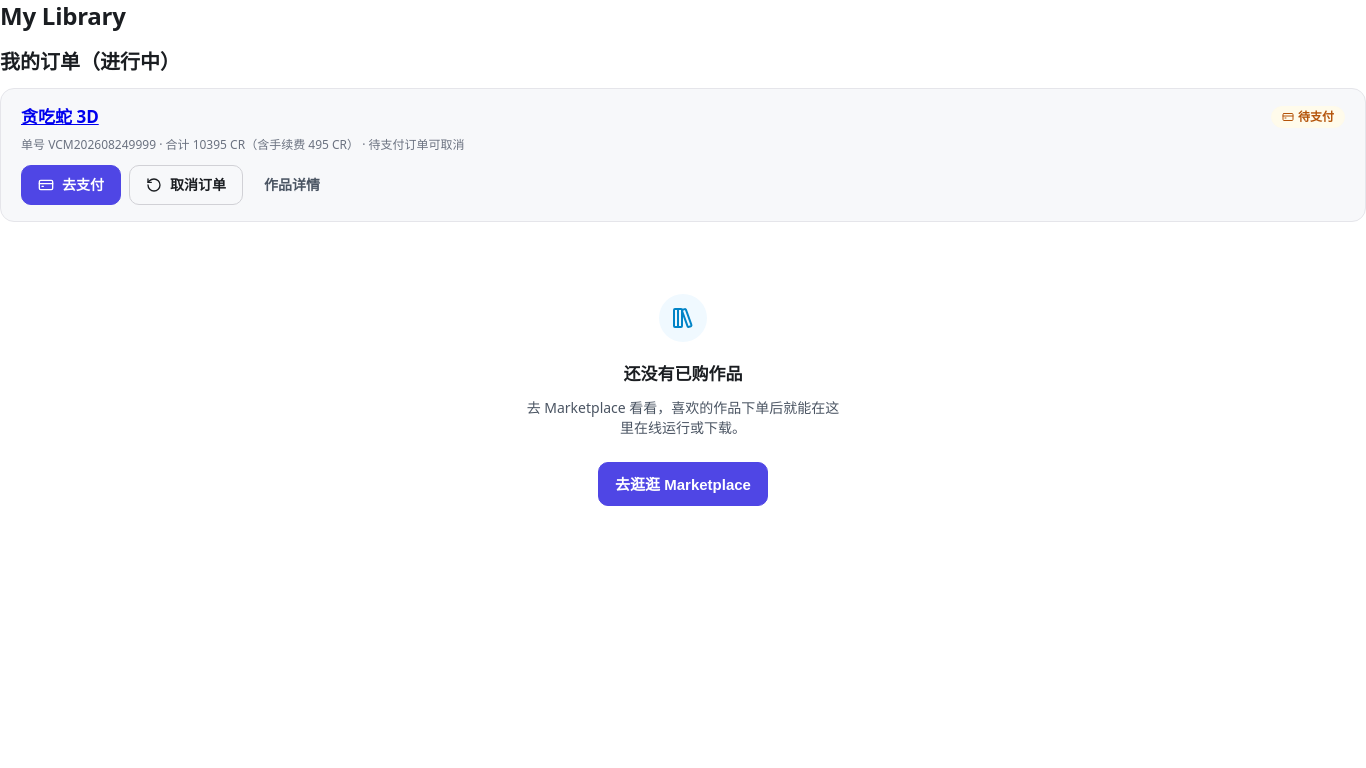
Test case: LibraryPage（区域 3 My Library） › 我的订单：去支付 → 二次确认弹窗（总价）→ POST pay
The image size is (1366, 768).
What coordinates should you click on to do the following:
click the button "去支付"
I would click on:
 (71, 185)
Its box is [21,165,121,205].
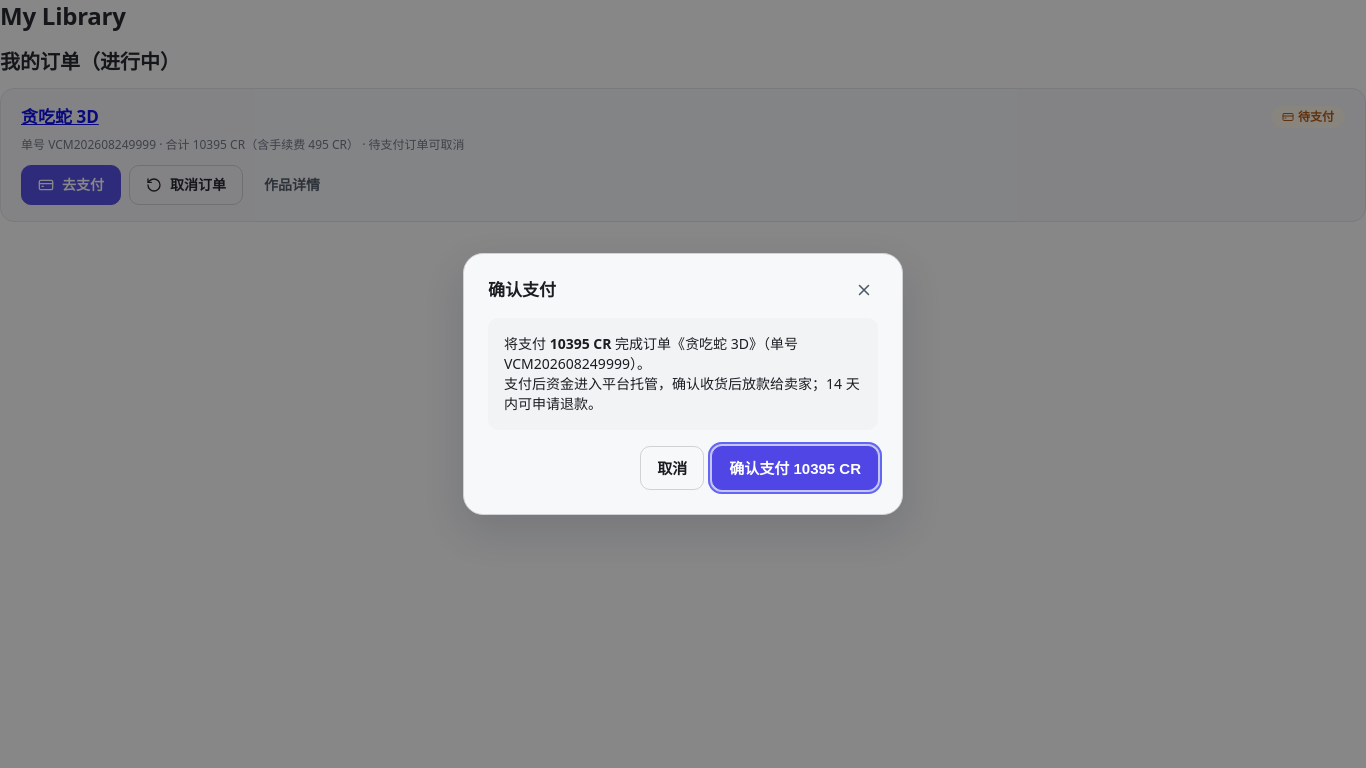
Now the text "10395 CR" is shown, box [550,334,611,353]
What coordinates should you click on to do the following:
click the button "确认支付 10395 CR"
I would click on:
 (795, 468)
Its box is [712,446,878,490].
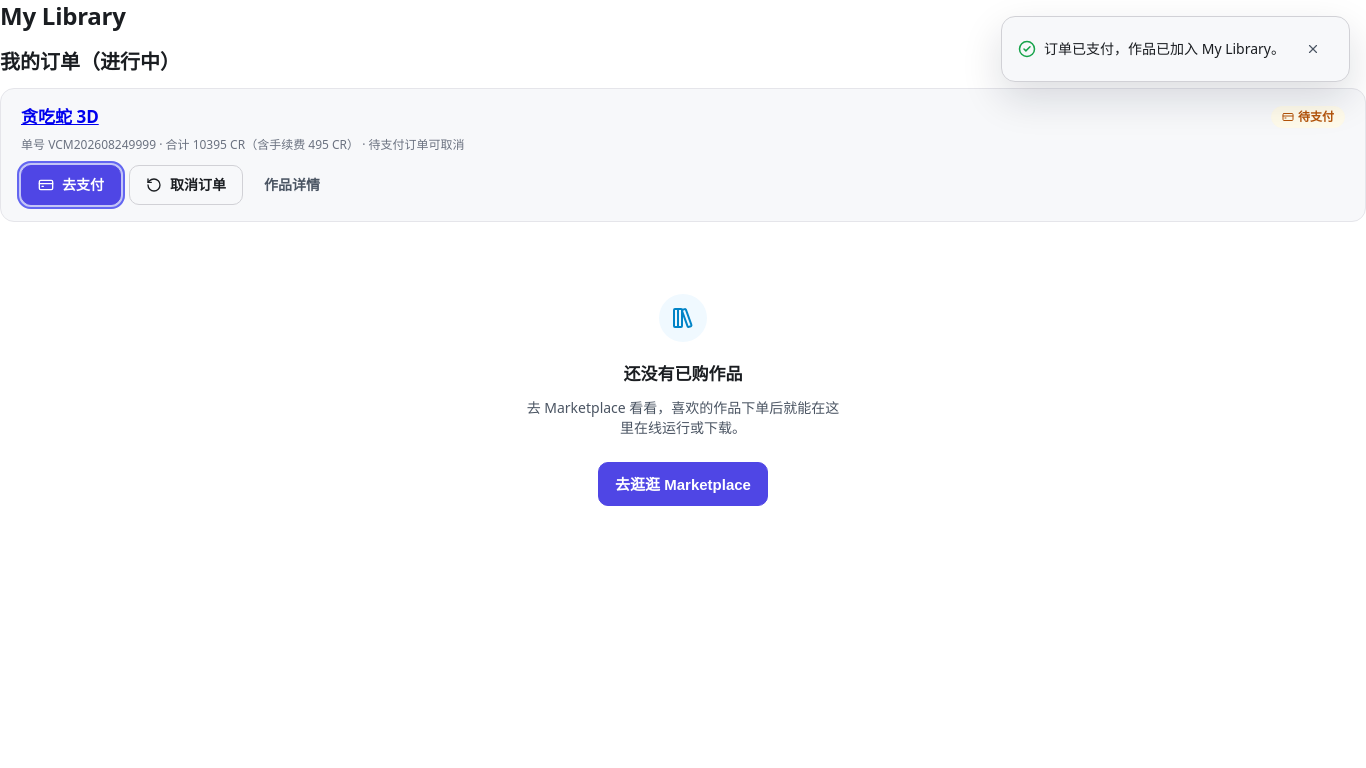
Now the element with test id "toast" is shown, box [1001,16,1350,82]
